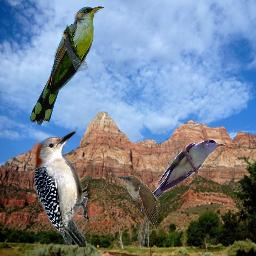Cuckoo: (30, 6, 104, 127), (141, 139, 225, 212), (117, 175, 157, 249)
Woodpecker: (34, 131, 90, 247)
